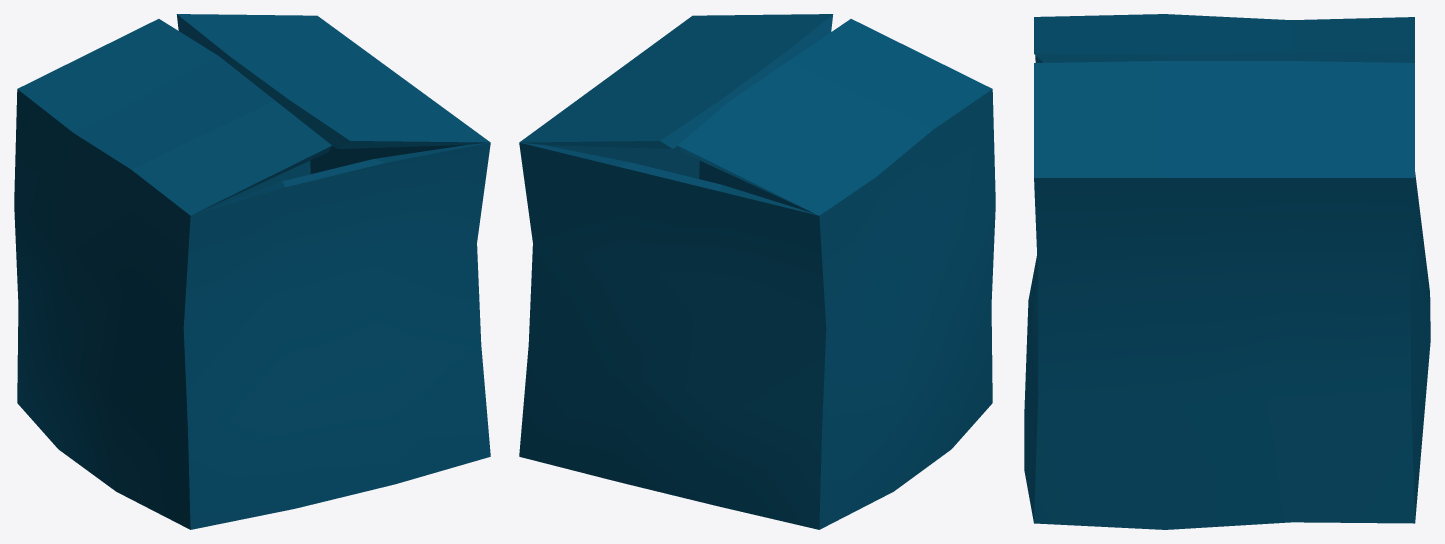
File: mesh_CardboardBox2_v2.fbx
The picture shows the model from 3 angles, left to right: view 1: azimuth 30°, elevation 25°; view 2: azimuth 150°, elevation 25°; view 3: azimuth 270°, elevation 25°; orthographic projection. The views are drawn at different scales.
Parts seen in each view (by area): view 1: mesh_CardboardBox2_v2_0; view 2: mesh_CardboardBox2_v2_0; view 3: mesh_CardboardBox2_v2_0.
Boxes of the visible parts, <box> form: mesh_CardboardBox2_v2_0: <box>14,14,490,529</box>; mesh_CardboardBox2_v2_0: <box>519,14,995,529</box>; mesh_CardboardBox2_v2_0: <box>1024,14,1430,529</box>.
Size of the model in its own units: 50.04 by 52.28 by 49.17.
